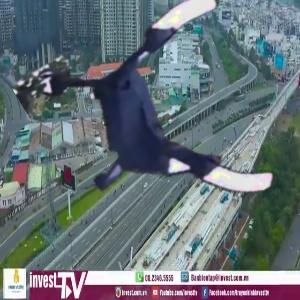drone: (53, 11, 280, 238)
